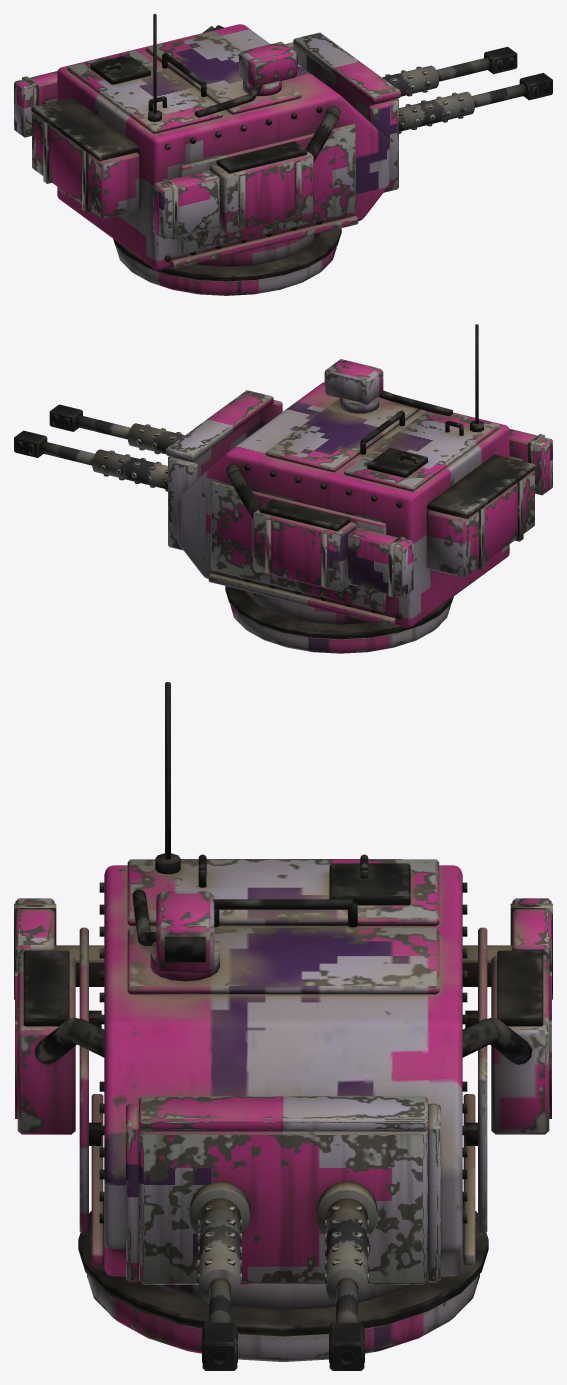
File: turret_grach_t3_pixel.glb
The picture shows the model from 3 angles, top to bottom: view 1: azimuth 30°, elevation 25°; view 2: azimuth 150°, elevation 25°; view 3: azimuth 270°, elevation 25°; orthographic projection. The views are drawn at different scales.
Visible parts, largest first — view 1: turret_light_t3, guns, pods; view 2: turret_light_t3, guns, pods; view 3: turret_light_t3, guns, pods.
Part boxes in pixels (bbox=[...]): turret_light_t3: bbox=[31, 14, 389, 295]; guns: bbox=[285, 32, 552, 192]; pods: bbox=[14, 71, 220, 239]; turret_light_t3: bbox=[177, 324, 535, 653]; guns: bbox=[14, 390, 282, 550]; pods: bbox=[346, 428, 552, 597]; turret_light_t3: bbox=[15, 682, 551, 1361]; guns: bbox=[126, 1096, 440, 1370]; pods: bbox=[14, 898, 552, 999].
Bounding box in the file's own units: 1.86 × 1.09 × 1.05.
Materials: 3 (3 with a texture image).
